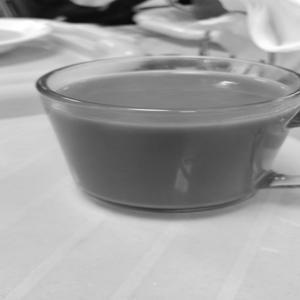coffee: (36, 49, 283, 233)
